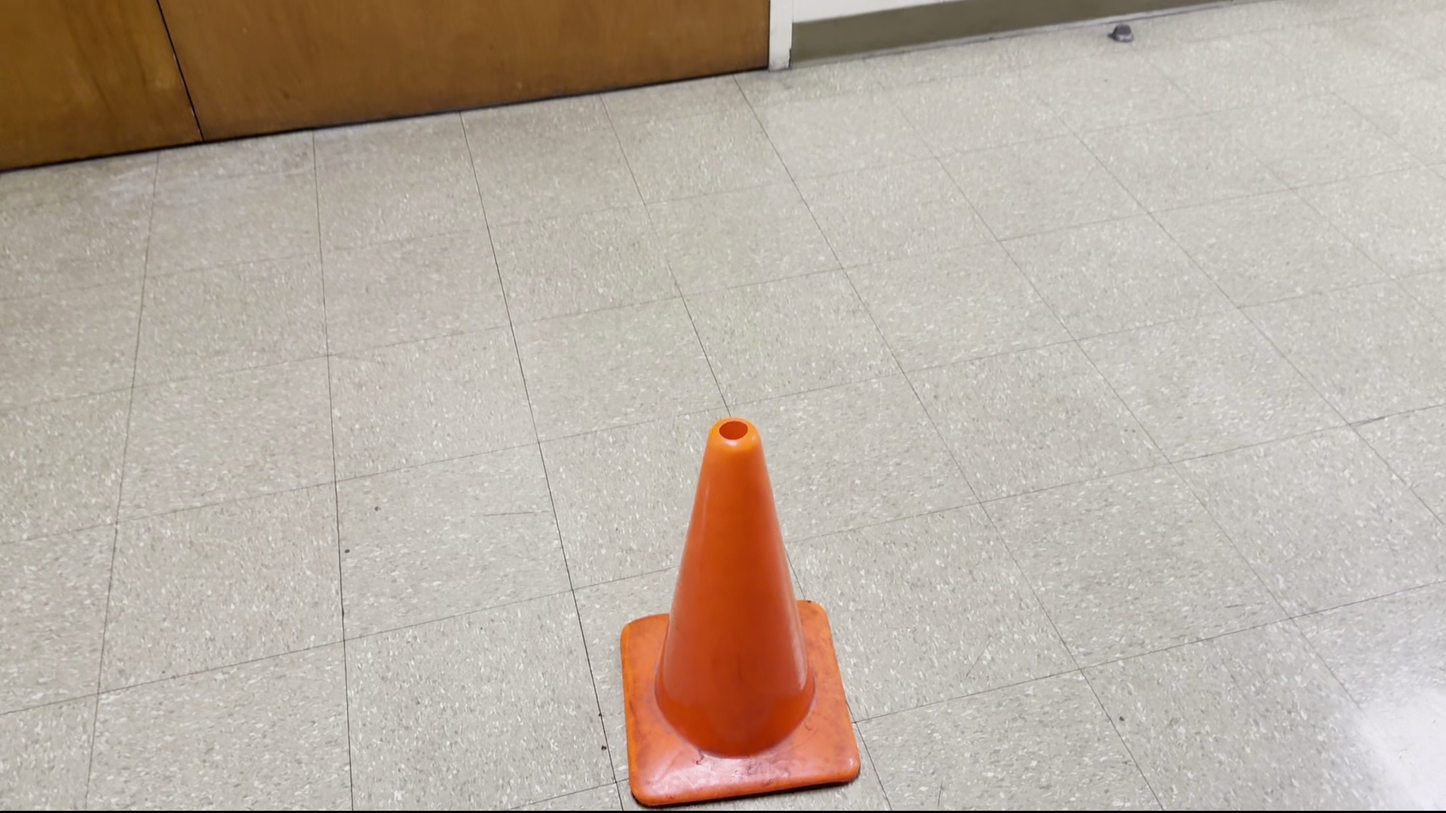traffic_cone: (619, 416, 860, 807)
